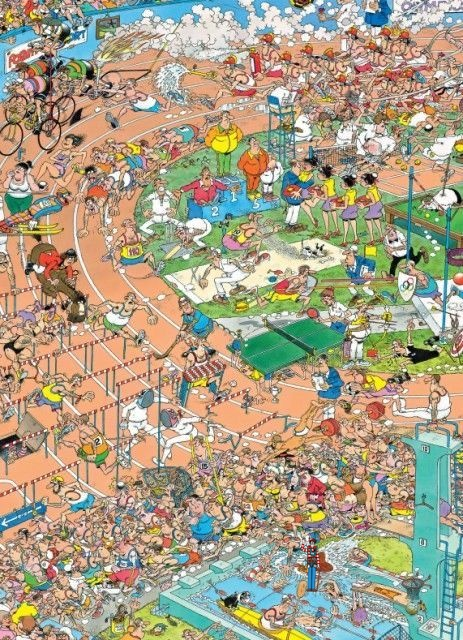waldo: (301, 537, 321, 592)
